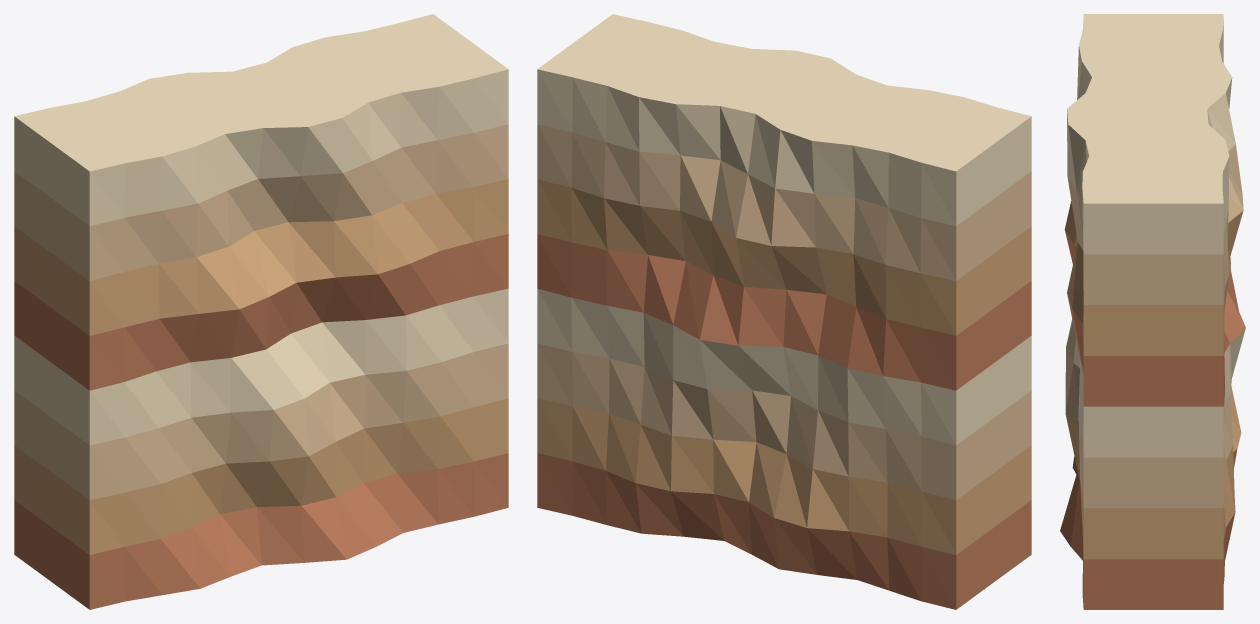
The model's file is desert-canyons-and-oases-canyon-wall-straight-5bf47f49__20903.glb.
The picture shows the model from 3 angles, left to right: view 1: azimuth 30°, elevation 25°; view 2: azimuth 150°, elevation 25°; view 3: azimuth 270°, elevation 25°; orthographic projection. The views are drawn at different scales.
Visible parts, largest first — view 1: canyon-wall-straight; view 2: canyon-wall-straight; view 3: canyon-wall-straight.
Part boxes in pixels (box(x1,y1,x2,y2)): canyon-wall-straight: box(14, 14, 508, 609); canyon-wall-straight: box(537, 14, 1031, 609); canyon-wall-straight: box(1060, 14, 1245, 609).
Bounding box in the file's own units: 4 × 4 × 1.66.
